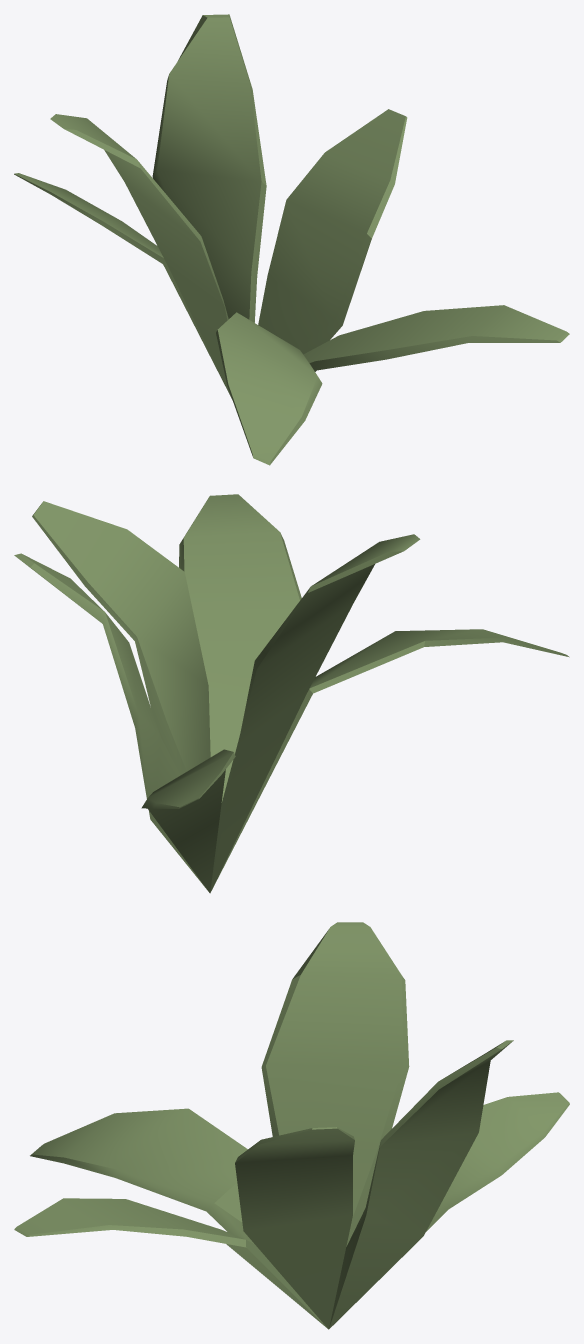
Rendered from inside_grass.fbx.
3 renders of one model, top to bottom at view 1: azimuth 30°, elevation 25°; view 2: azimuth 150°, elevation 25°; view 3: azimuth 270°, elevation 25°, orthographic. The views are drawn at different scales.
Parts seen in each view (by area): view 1: Cube.004; view 2: Cube.004; view 3: Cube.004.
Boxes of the visible parts, x1=… form: Cube.004: x1=14, y1=14, x2=569, y2=465; Cube.004: x1=14, y1=494, x2=569, y2=893; Cube.004: x1=14, y1=922, x2=569, y2=1329.
Bounding box in the file's own units: 22.7 × 21.88 × 33.99.
